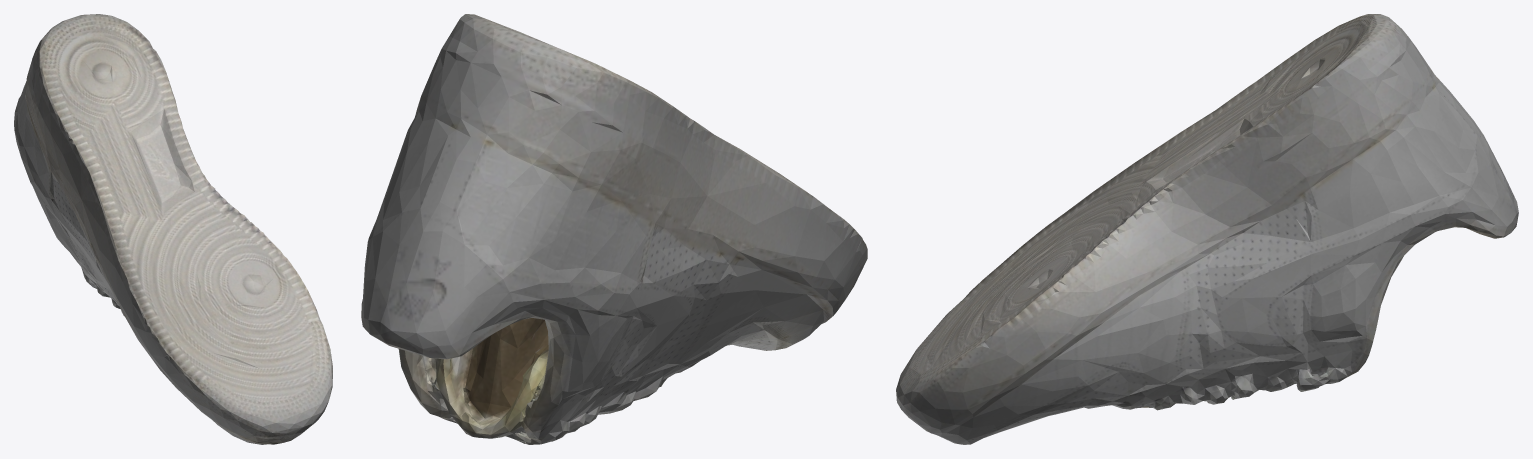
File: export-left-small.obj
3 renders of one model, left to right at view 1: azimuth 30°, elevation 25°; view 2: azimuth 150°, elevation 25°; view 3: azimuth 270°, elevation 25°, orthographic. The views are drawn at different scales.
Size of the model in its own units: 109 by 207 by 294.
1 material, 1 textured.
